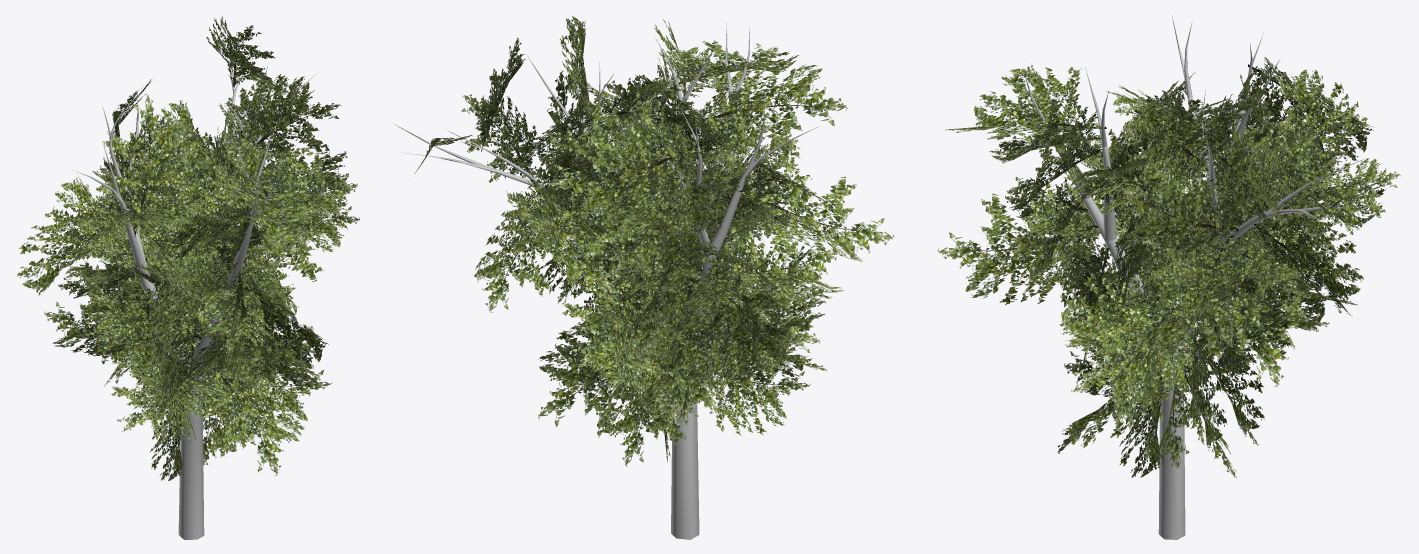
The model's file is tree3.005.fbx.
3 views of the same model, side by side, from view 1: azimuth 30°, elevation 25°; view 2: azimuth 150°, elevation 25°; view 3: azimuth 270°, elevation 25° (orthographic). The views are drawn at different scales.
Parts seen in each view (by area): view 1: tree3.005; view 2: tree3.005; view 3: tree3.005.
Boxes of the visible parts, x1=… form: tree3.005: x1=17, y1=16, x2=359, y2=539; tree3.005: x1=396, y1=16, x2=894, y2=539; tree3.005: x1=937, y1=16, x2=1400, y2=539.
Bounding box in the file's own units: 2.63 × 3.08 × 2.54.
